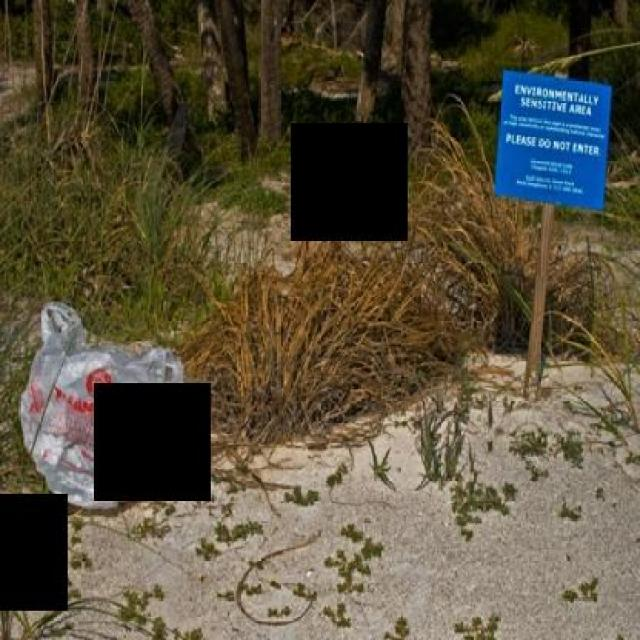plastic bag: (15, 294, 191, 512)
